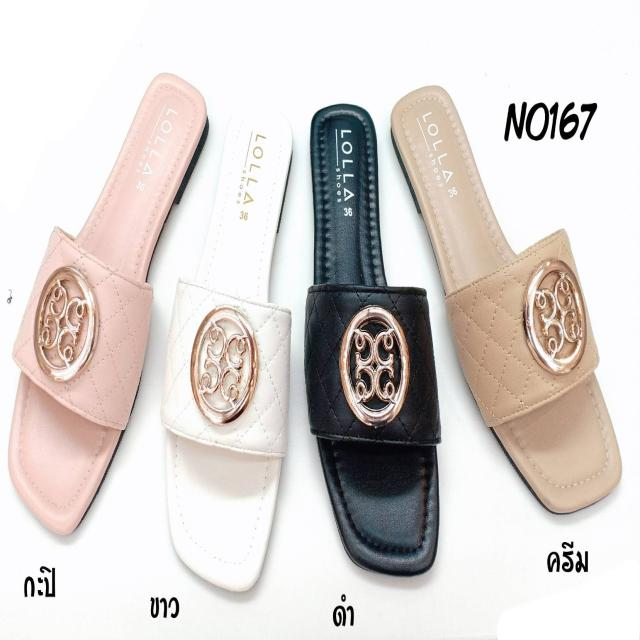black: (305, 110, 442, 568)
cream: (395, 84, 621, 514)
kapi: (8, 71, 205, 542)
white: (166, 107, 298, 593)
